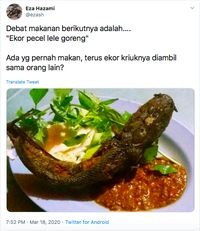pecel_lele: (83, 91, 178, 172), (19, 140, 138, 190)
